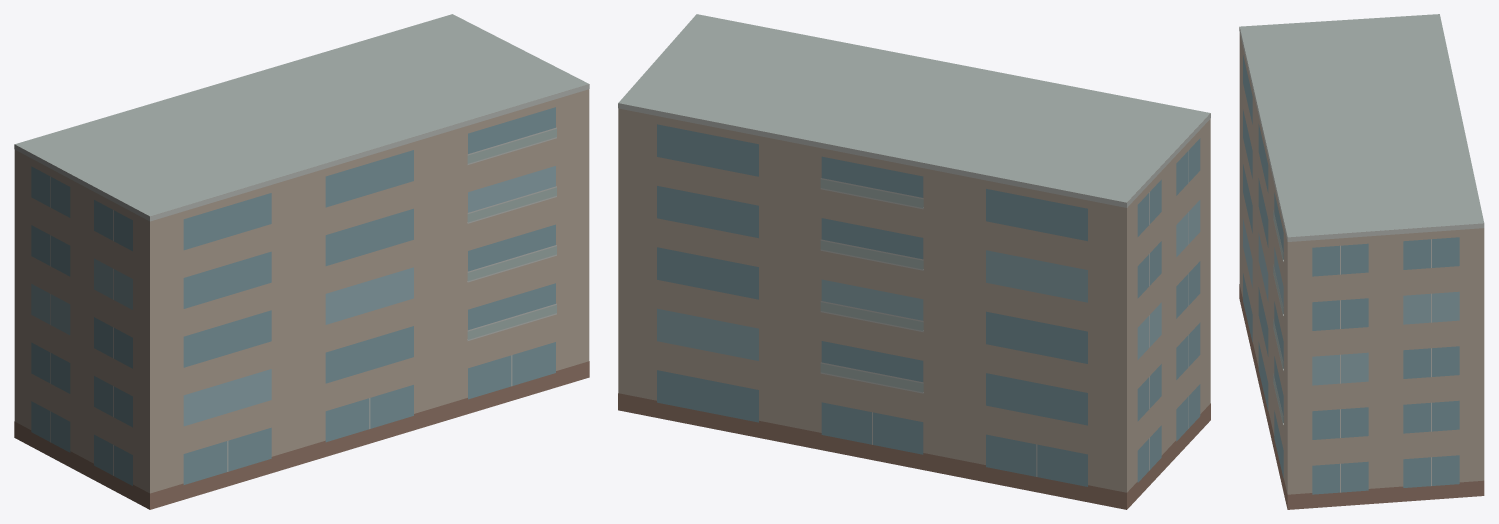
Rendered from survey-upis-32523924.glb.
The picture shows the model from 3 angles, left to right: view 1: azimuth 30°, elevation 25°; view 2: azimuth 150°, elevation 25°; view 3: azimuth 270°, elevation 25°; orthographic projection. The views are drawn at different scales.
Parts seen in each view (by area): view 1: survey-upis-32523924.tmp; view 2: survey-upis-32523924.tmp; view 3: survey-upis-32523924.tmp.
Part boxes in pixels (x1,y1,x2,y2): survey-upis-32523924.tmp: [14, 14, 589, 509]; survey-upis-32523924.tmp: [618, 14, 1210, 509]; survey-upis-32523924.tmp: [1239, 14, 1484, 509].
Size of the model in its own units: 24.62 by 14 by 11.41.
